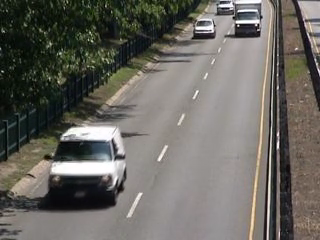car: (192, 18, 218, 40), (215, 1, 236, 16)
truck: (40, 122, 130, 207), (233, 1, 264, 37)
